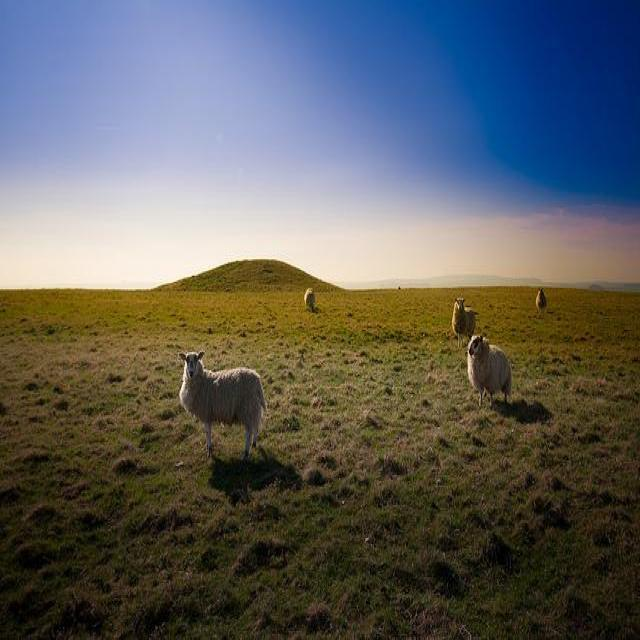Sheep: (179, 349, 271, 462), (467, 334, 513, 408)
